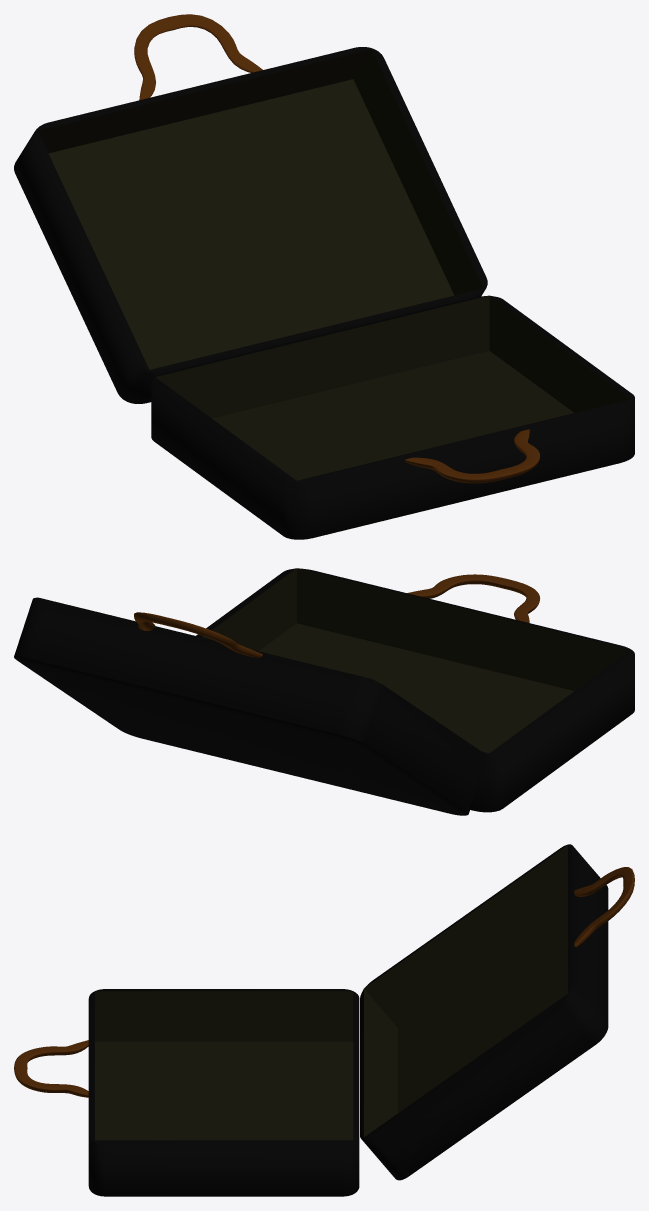
The model's file is briefcase.fbx.
The picture shows the model from 3 angles, top to bottom: view 1: azimuth 30°, elevation 25°; view 2: azimuth 150°, elevation 25°; view 3: azimuth 270°, elevation 25°; orthographic projection. The views are drawn at different scales.
Visible parts, largest first — view 1: Cube.003, Cube.002, Cube, Cube.001, Cylinder.002, Cylinder; view 2: Cube.001, Cube.002, Cube, Cylinder, Cylinder.002; view 3: Cube.002, Cube.003, Cube.001, Cube, Cylinder, Cylinder.002.
Part boxes in pixels (left/top/right/bottom): Cube.003: left=38, top=49, right=483, bottom=369; Cube.002: left=155, top=295, right=630, bottom=480; Cube: left=151, top=295, right=634, bottom=539; Cube.001: left=14, top=47, right=487, bottom=403; Cylinder.002: left=134, top=14, right=262, bottom=100; Cylinder: left=405, top=429, right=539, bottom=483; Cube.001: left=14, top=597, right=487, bottom=815; Cube.002: left=202, top=568, right=630, bottom=753; Cube: left=196, top=568, right=634, bottom=812; Cylinder: left=407, top=574, right=540, bottom=622; Cylinder.002: left=134, top=612, right=262, bottom=657; Cube.002: left=95, top=991, right=353, bottom=1140; Cube.003: left=364, top=845, right=567, bottom=1136; Cube.001: left=360, top=844, right=608, bottom=1180; Cube: left=88, top=989, right=359, bottom=1196; Cylinder: left=14, top=1040, right=88, bottom=1097; Cylinder.002: left=574, top=867, right=634, bottom=947.
Size of the model in its own units: 1620 by 1186 by 2726.
